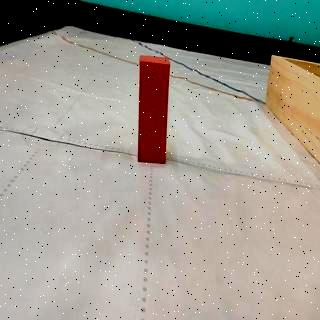redbox: (138, 53, 170, 165)
